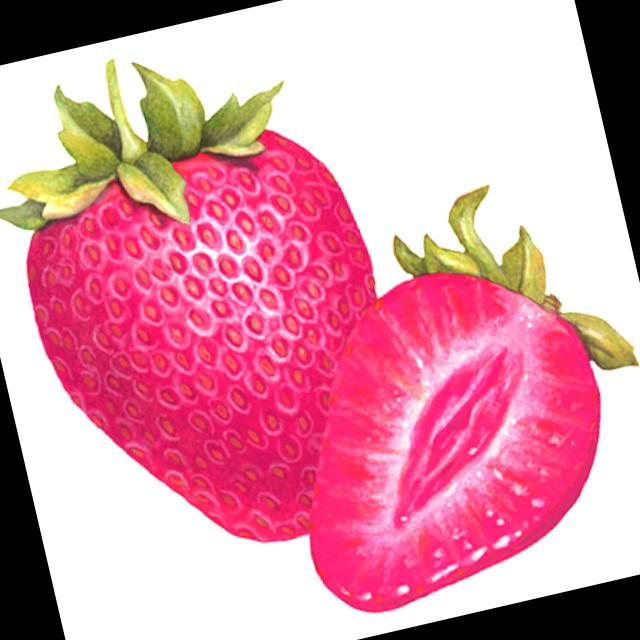strawberry: (0, 61, 375, 541), (311, 188, 638, 610)
